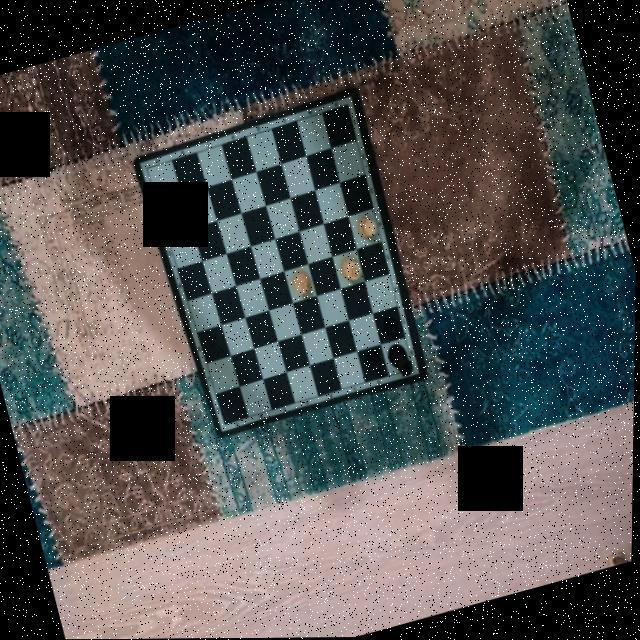chess-table-corners: (332, 89, 360, 122), (402, 356, 428, 386), (217, 412, 236, 434), (140, 158, 159, 178)
